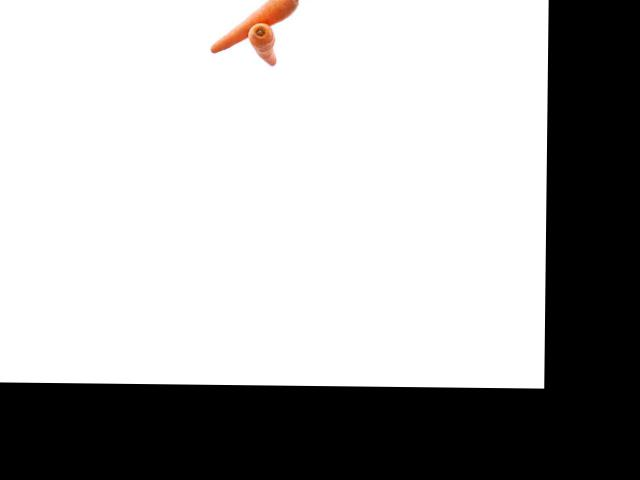carrot: (247, 20, 282, 68)
